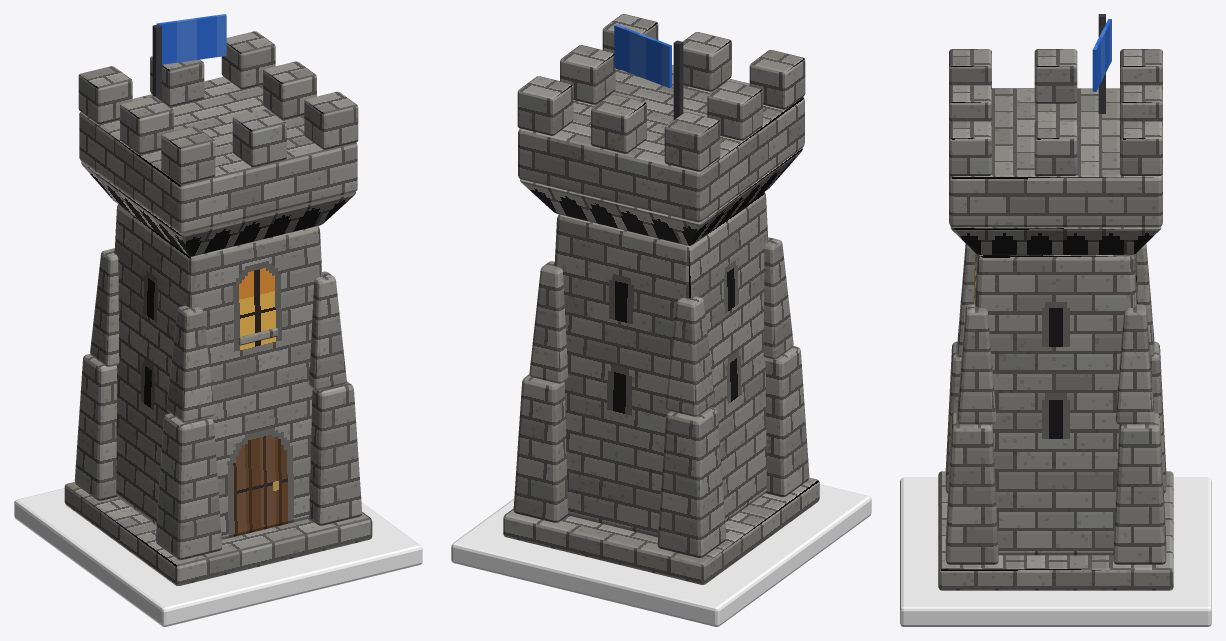
File: rook.glb
3 renders of one model, left to right at view 1: azimuth 30°, elevation 25°; view 2: azimuth 150°, elevation 25°; view 3: azimuth 270°, elevation 25°, orthographic. The views are drawn at different scales.
Parts seen in each view (by area): view 1: rook; view 2: rook; view 3: rook.
Part boxes in pixels (x1,y1,x2,y2): rook: (14, 14, 422, 626); rook: (451, 14, 871, 626); rook: (900, 14, 1211, 626).
Size of the model in its own units: 0.875 by 1.63 by 0.875.
Materials: 2 (1 with a texture image).
